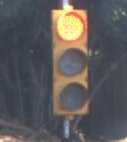Red: (47, 7, 92, 117)
